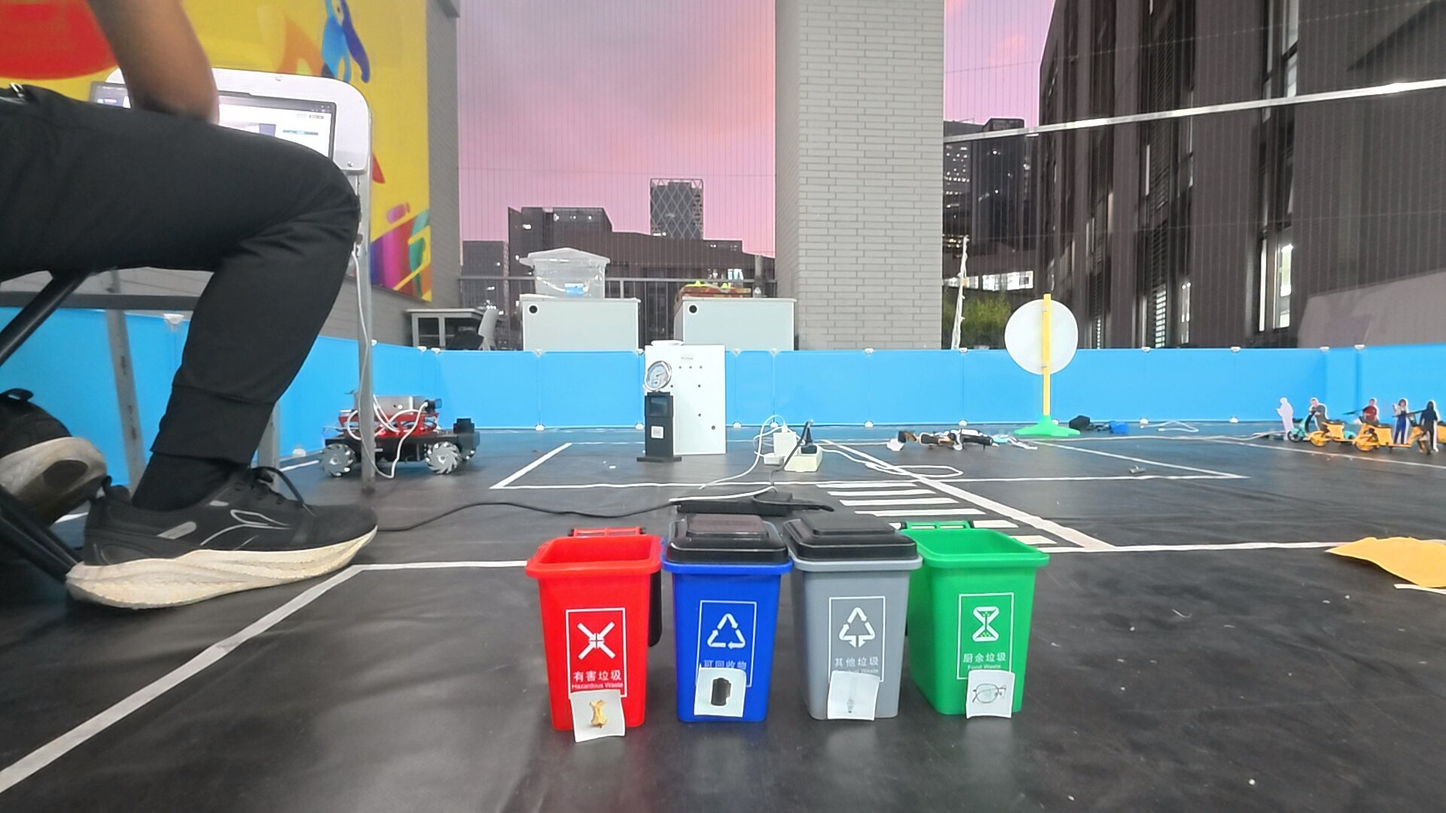food_trash: (574, 692, 621, 736)
hazardous_trash: (701, 670, 741, 714), (832, 676, 875, 716)
other_trash: (970, 673, 1011, 714)
